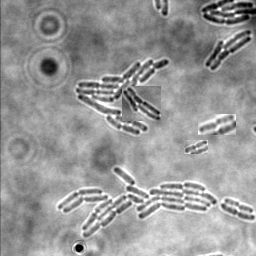Dividing: (198, 114, 236, 135), (219, 204, 255, 222), (223, 199, 253, 215), (184, 140, 208, 154)
Microcolony: (57, 167, 216, 238), (75, 59, 169, 136), (204, 30, 251, 72), (200, 1, 255, 26), (122, 86, 161, 121)
